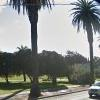Palm tree: (67, 0, 100, 70)
